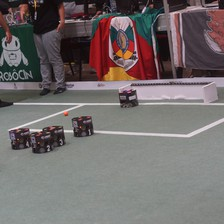ball: (61, 109, 68, 117)
goal: (117, 81, 219, 103)
robot: (7, 126, 32, 150), (29, 130, 53, 154), (70, 114, 95, 137), (116, 87, 140, 109), (48, 123, 66, 147)
